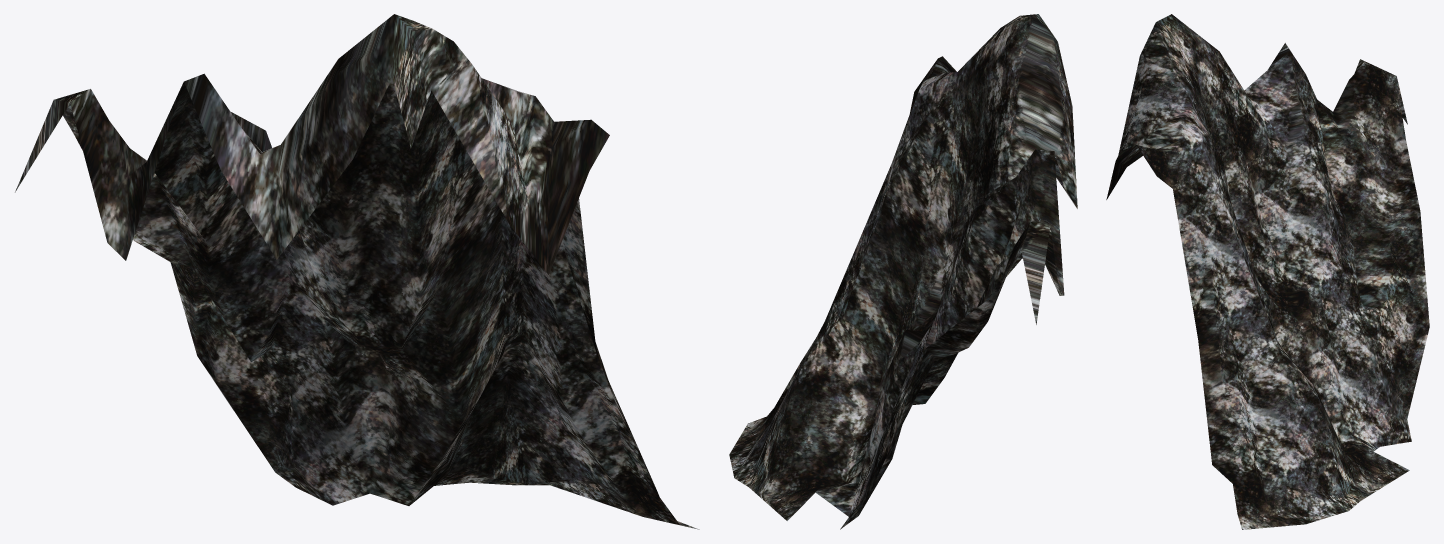
Rendered from OVERHILL_A_01_MOUN1_OBJECT155.fbx.
3 views of the same model, side by side, from view 1: azimuth 30°, elevation 25°; view 2: azimuth 150°, elevation 25°; view 3: azimuth 270°, elevation 25° (orthographic). The views are drawn at different scales.
Parts seen in each view (by area): view 1: OVERHILL_A_01_MOUN1_OBJECT155; view 2: OVERHILL_A_01_MOUN1_OBJECT155; view 3: OVERHILL_A_01_MOUN1_OBJECT155.
Boxes of the visible parts, <box> form: OVERHILL_A_01_MOUN1_OBJECT155: <box>15,14,699,529</box>; OVERHILL_A_01_MOUN1_OBJECT155: <box>729,14,1077,529</box>; OVERHILL_A_01_MOUN1_OBJECT155: <box>1106,14,1429,529</box>.
Size of the model in its own units: 303134 by 338849 by 244358.
Materials: 1 (1 with a texture image).
